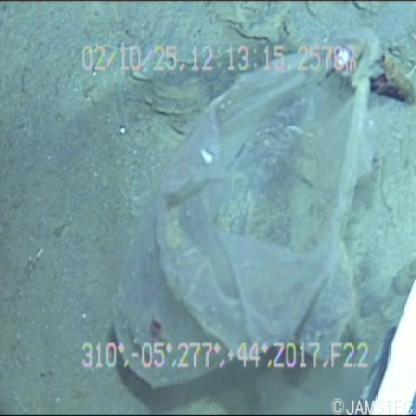Rác: (102, 23, 390, 399)
